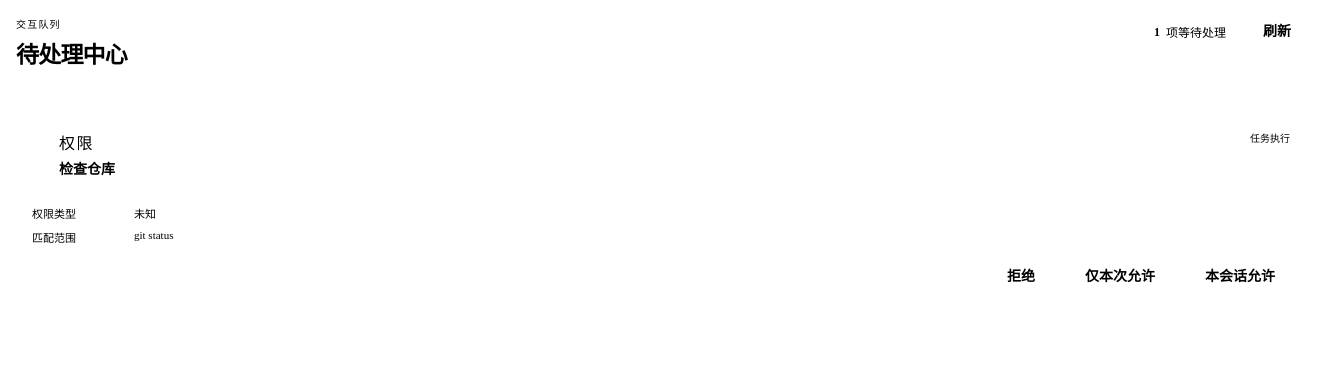
Test: 统一待处理中心 › keeps the persisted snapshot visible when a refresh fails
Click the button "刷新": [1270, 32] box left=1234, top=16, right=1306, bottom=48
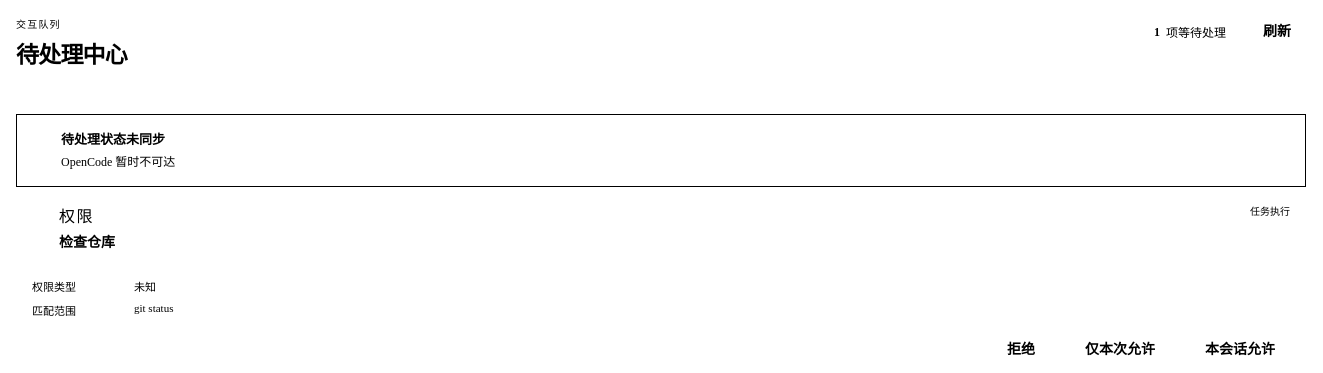
Expected: the text "检查仓库" is shown, left=59, top=231, right=115, bottom=251
Expected: the text "OpenCode 暂时不可达" is shown, left=61, top=153, right=175, bottom=172
